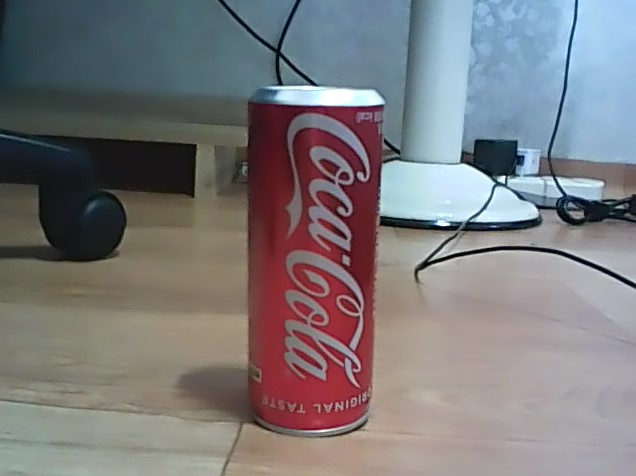Can: (244, 79, 388, 440)
